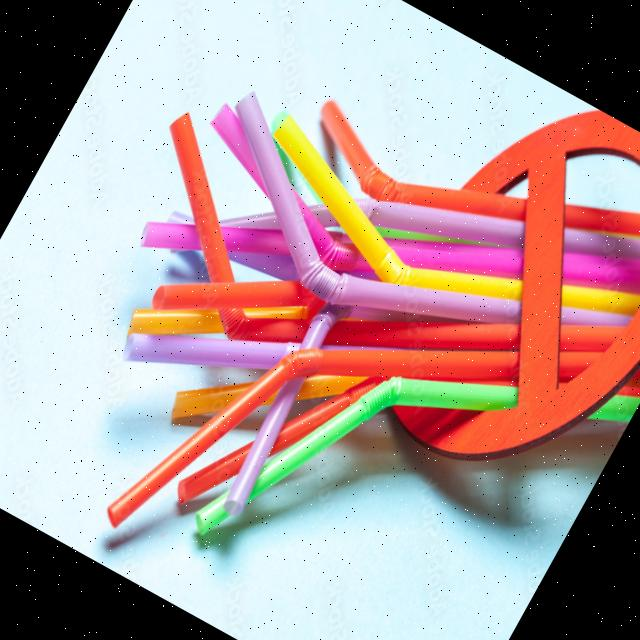plastic: (167, 75, 534, 388)
